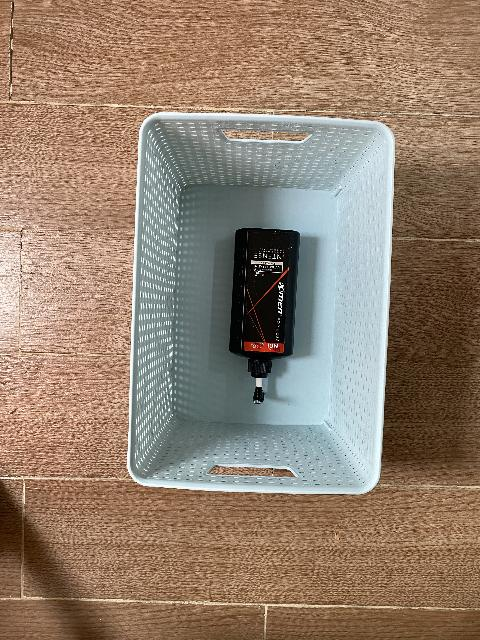X-men: (229, 228, 300, 404)
cart: (126, 112, 396, 497)
